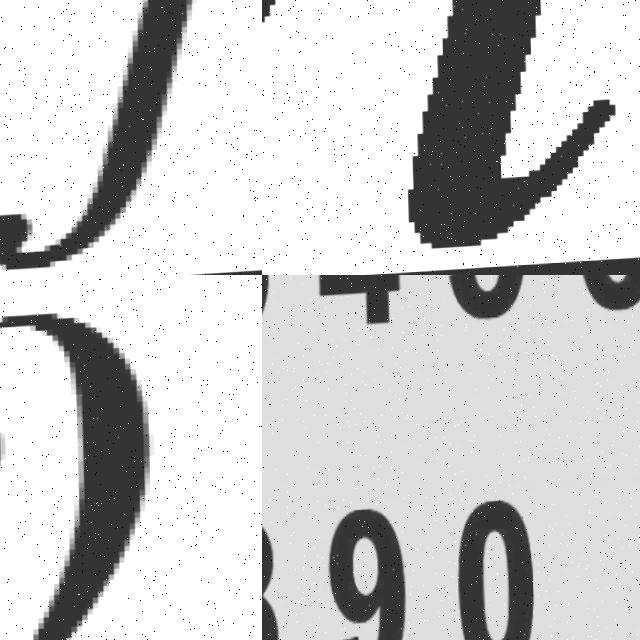0: (450, 459, 549, 640)
2: (0, 297, 175, 640)
4: (312, 275, 407, 351)
5: (433, 275, 540, 345)
8: (262, 485, 292, 640)
9: (321, 473, 416, 640)
J: (0, 0, 262, 275)
N: (262, 0, 628, 275)
